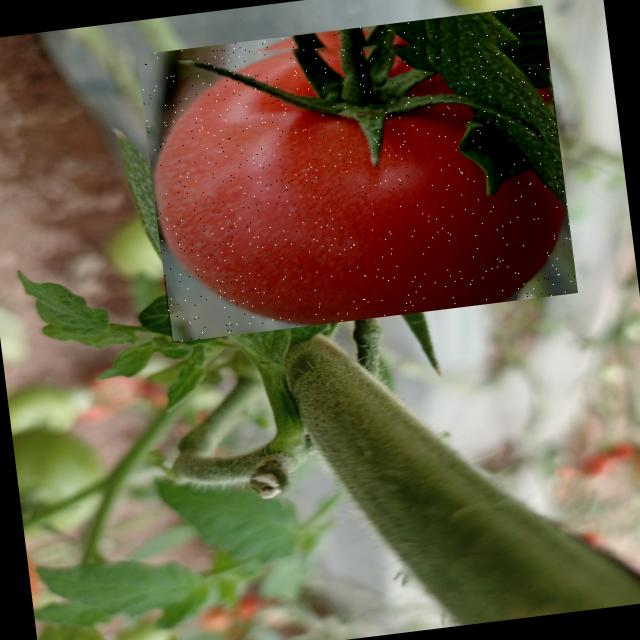Ripe Tomato: (137, 5, 578, 342)
